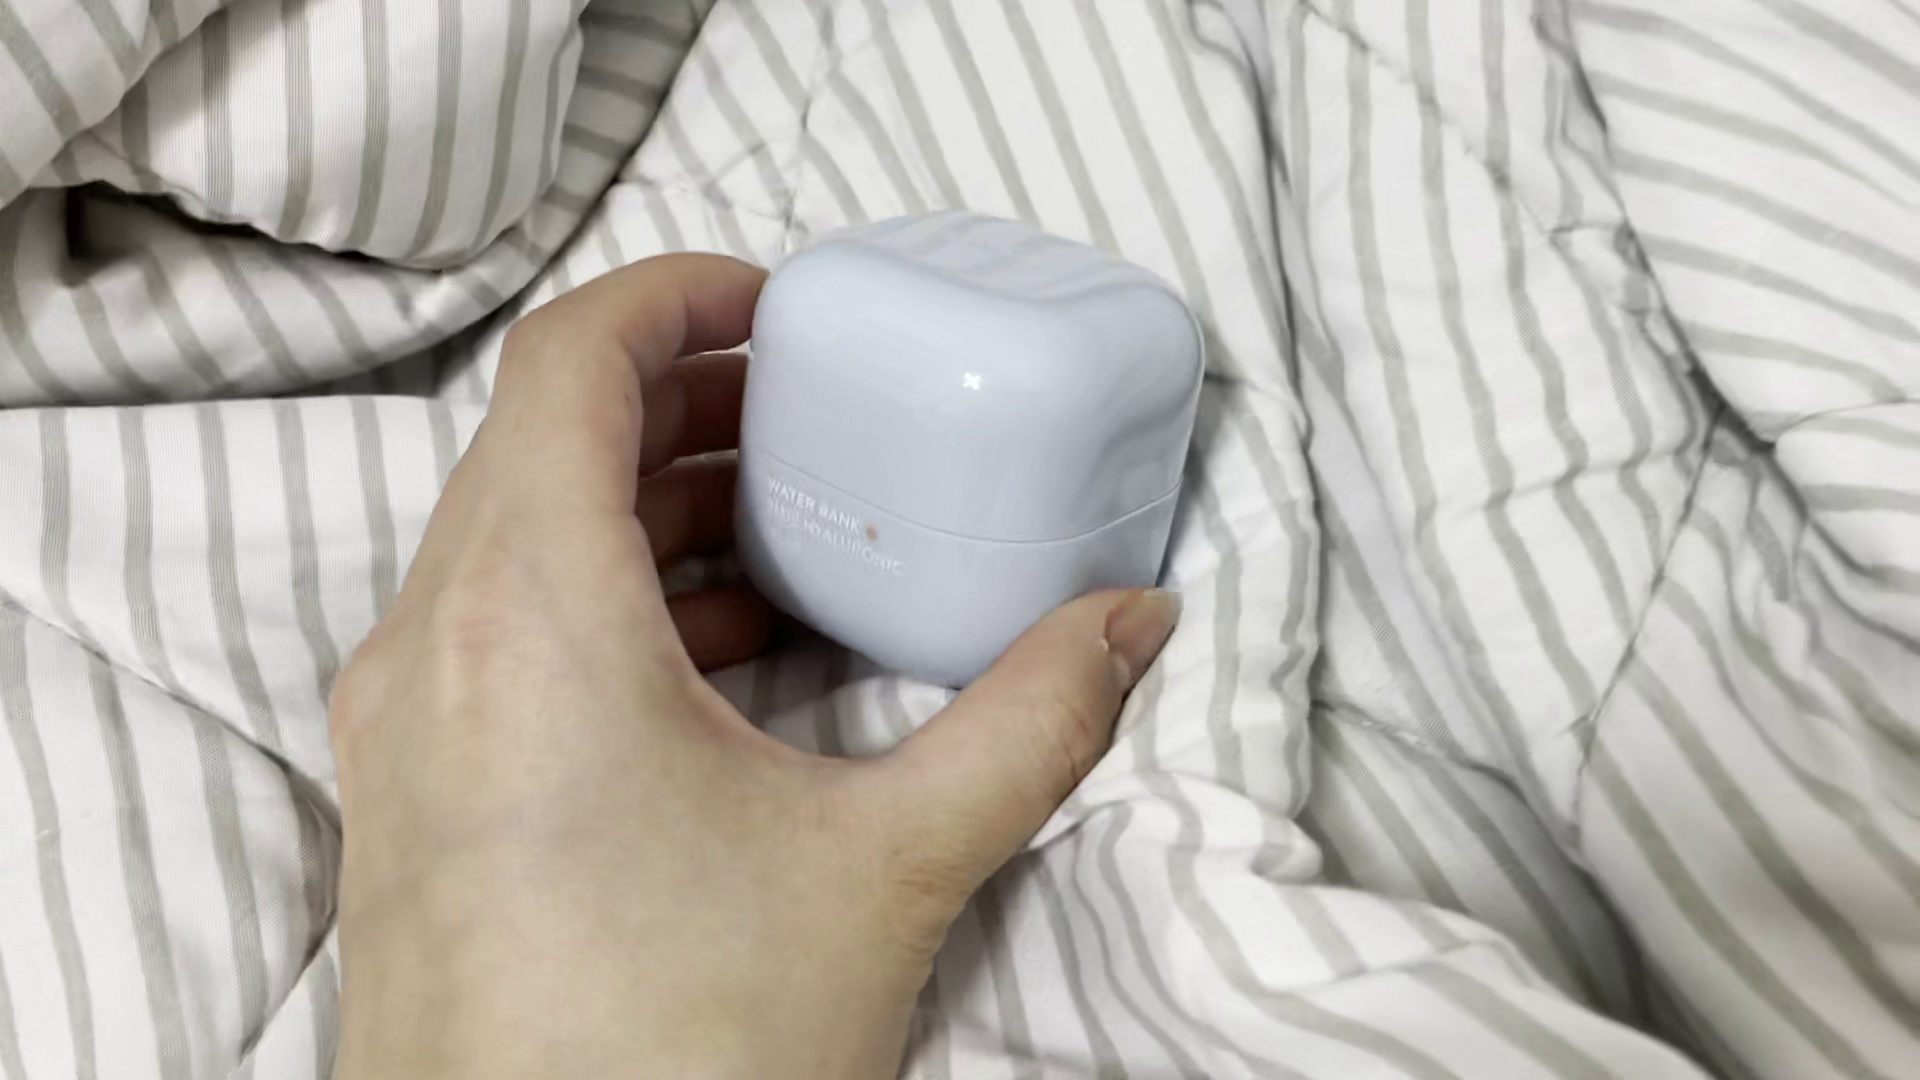cream: (728, 199, 1205, 686)
